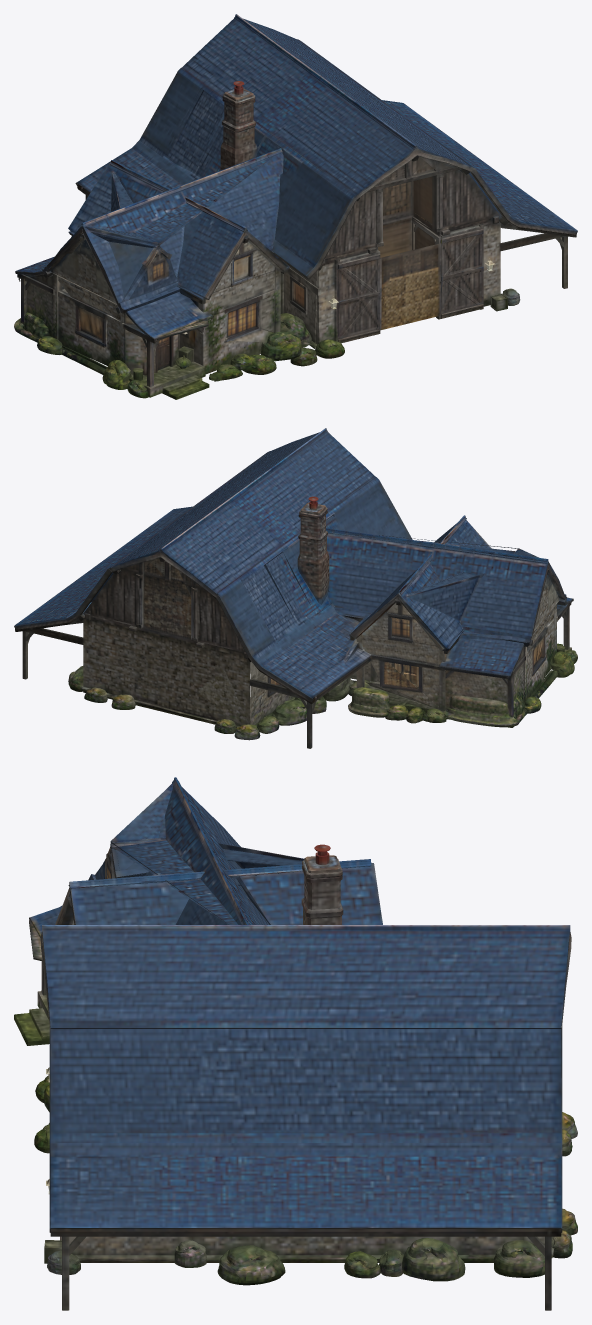
File: barn_stable_game.glb
The picture shows the model from 3 angles, top to bottom: view 1: azimuth 30°, elevation 25°; view 2: azimuth 150°, elevation 25°; view 3: azimuth 270°, elevation 25°; orthographic projection. The views are drawn at different scales.
Parts seen in each view (by area): view 1: geometry_0; view 2: geometry_0; view 3: geometry_0.
Part boxes in pixels (left/top/right/bottom): geometry_0: left=14, top=14, right=577, bottom=399; geometry_0: left=14, top=428, right=577, bottom=748; geometry_0: left=14, top=777, right=577, bottom=1310.
Bounding box in the file's own units: 34.32 × 14.55 × 24.36.
Materials: 1 (1 with a texture image).
